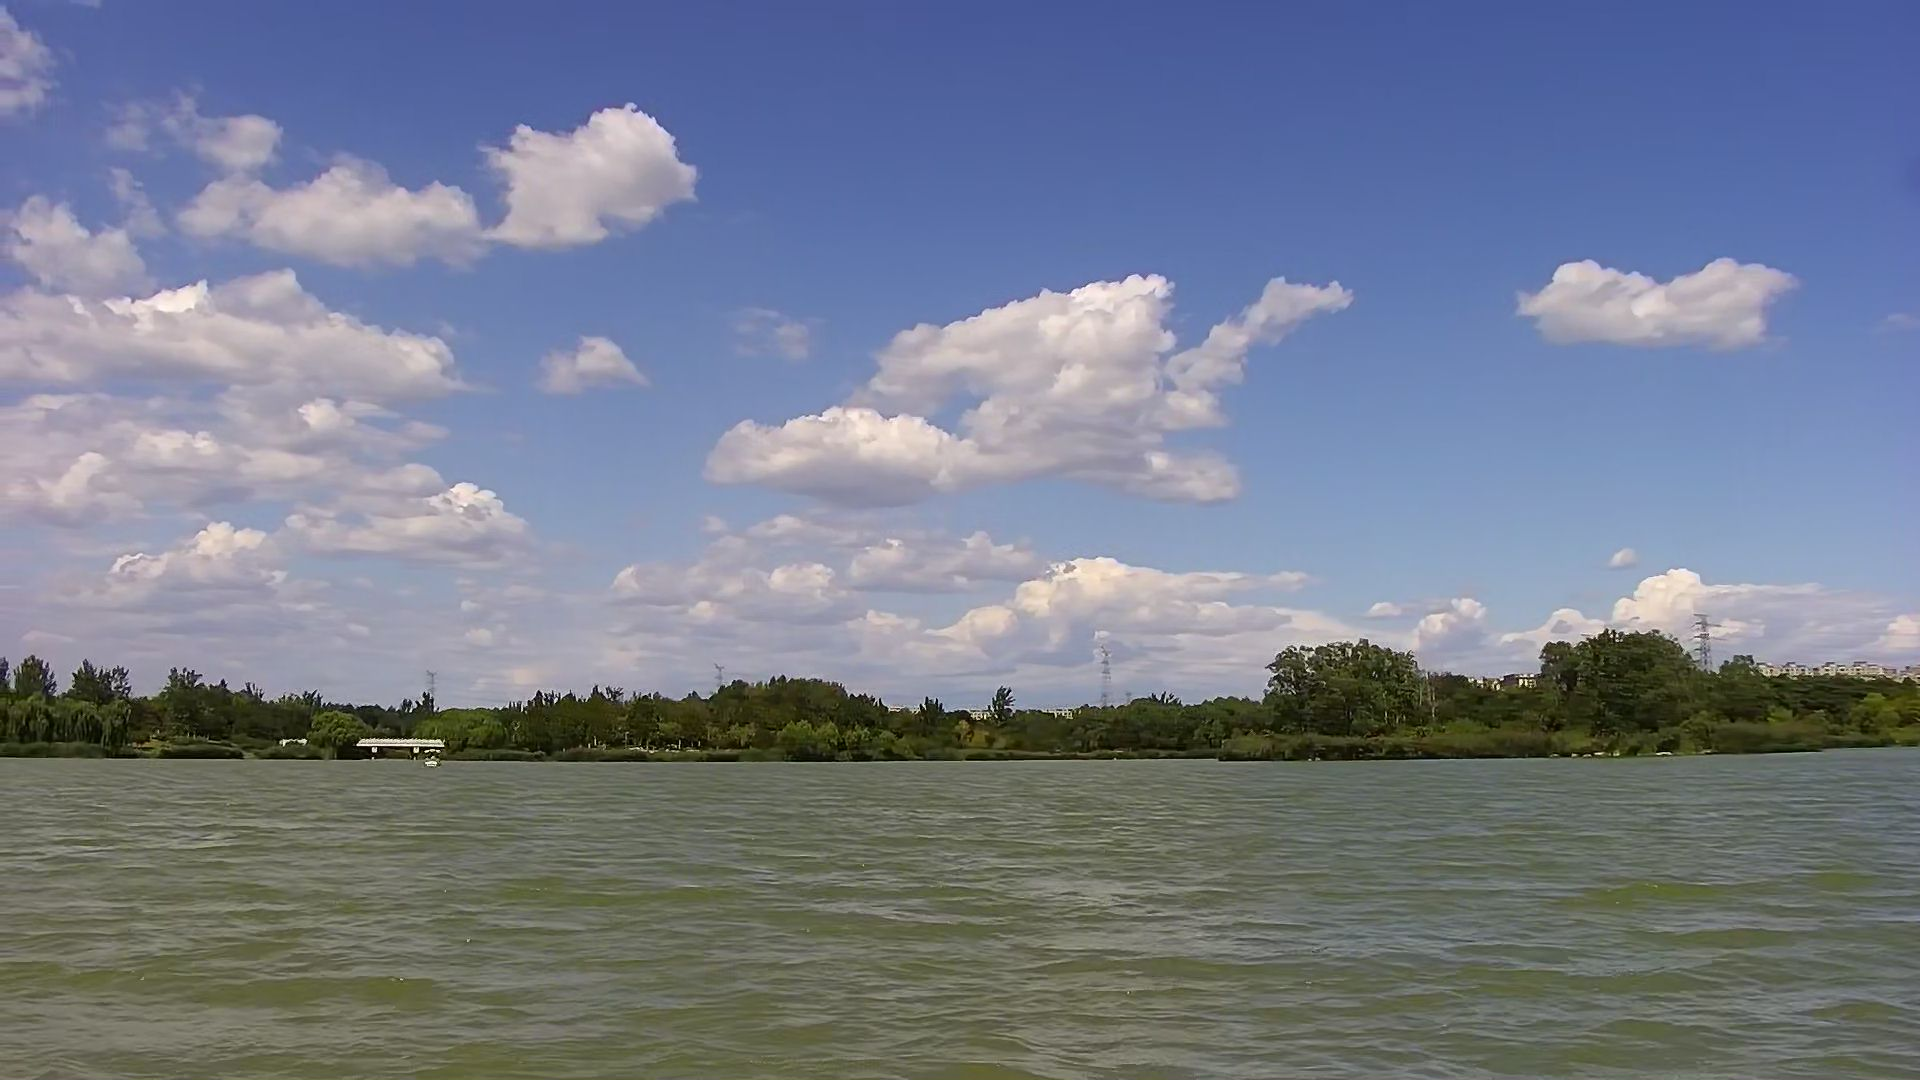bridge: (355, 728, 455, 760)
